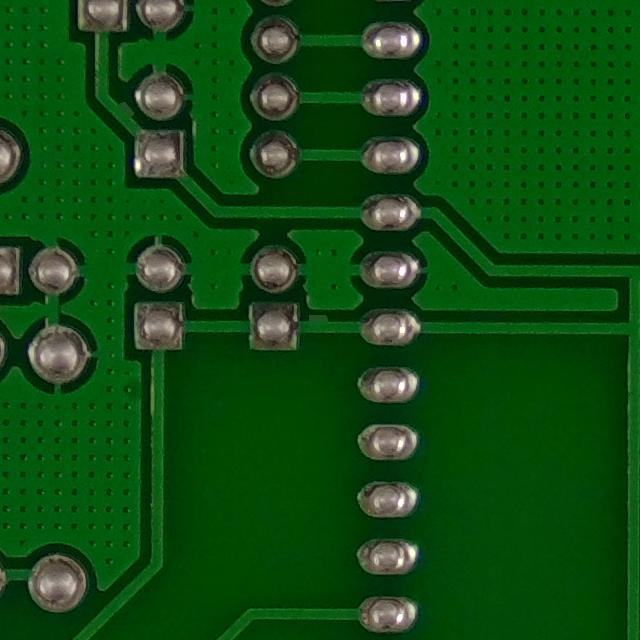spur: (300, 302, 340, 338)
